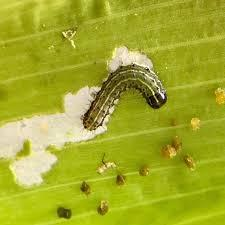fallarmy_worm: (79, 64, 168, 135)
